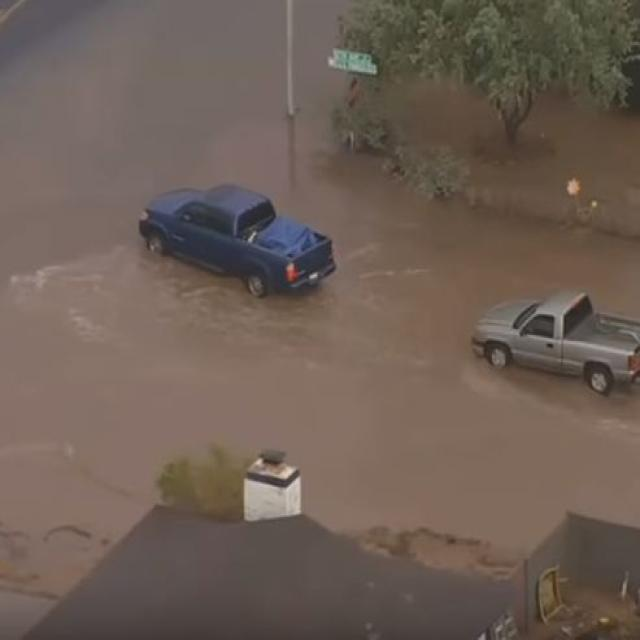flooded_areas: (0, 69, 635, 515)
